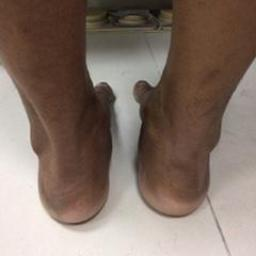Back View -Both Feet-: (11, 58, 245, 229)
